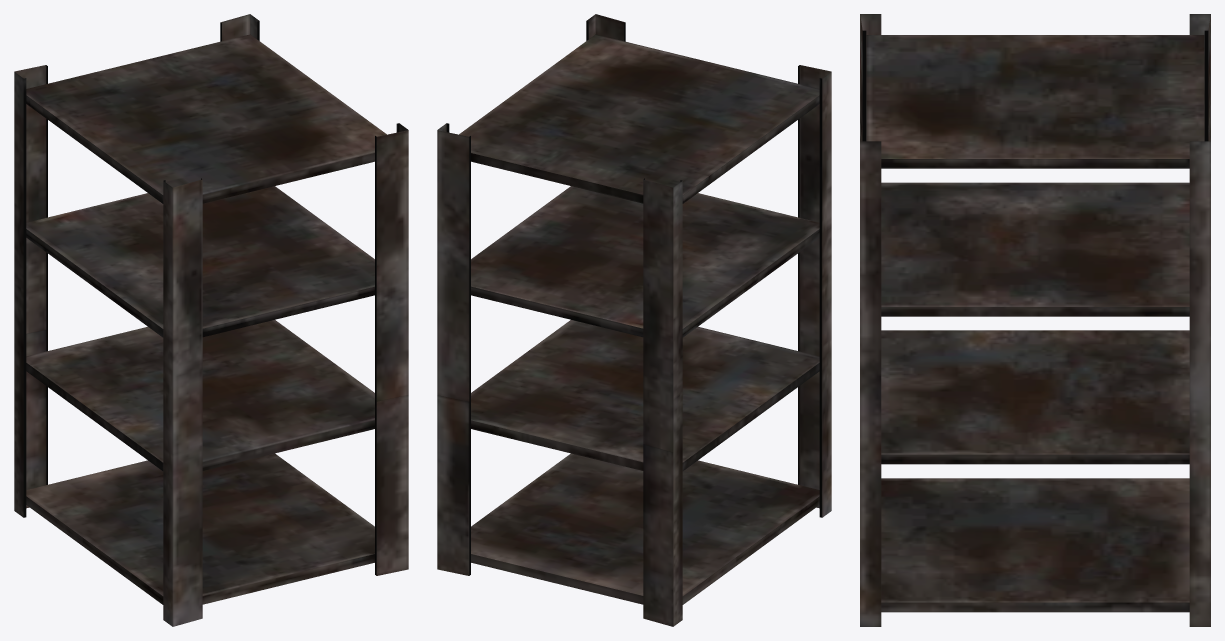
Rendered from rusty-shelving.gltf.
3 views of the same model, side by side, from view 1: azimuth 30°, elevation 25°; view 2: azimuth 150°, elevation 25°; view 3: azimuth 270°, elevation 25° (orthographic). The views are drawn at different scales.
Parts seen in each view (by area): view 1: Sketchfab_model; view 2: Sketchfab_model; view 3: Sketchfab_model.
Boxes of the visible parts, box(x1,y1,x2,y2) form: Sketchfab_model: box(14, 14, 408, 626); Sketchfab_model: box(437, 14, 831, 626); Sketchfab_model: box(860, 14, 1210, 626).
Bounding box in the file's own units: 1.07 × 1.9 × 1.24.
1 material, 1 textured.
